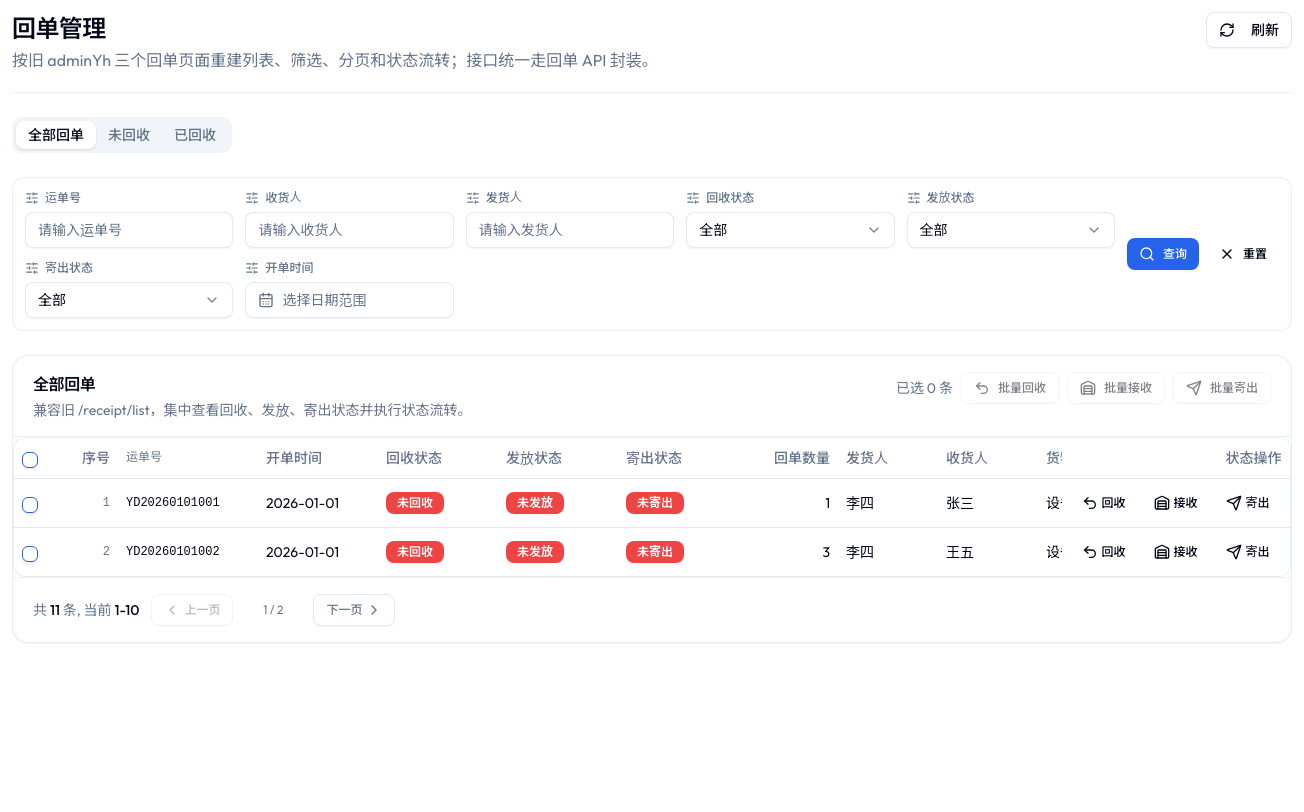
ReceiptsList › resets filters, pagination, and selected rows together
Expected: the text "YD20260101001" is shown, [118,478,258,527]
Step 1. Type "YD2026" into the field named "回单运单号" → point(129, 230), box [25,212,233,248]
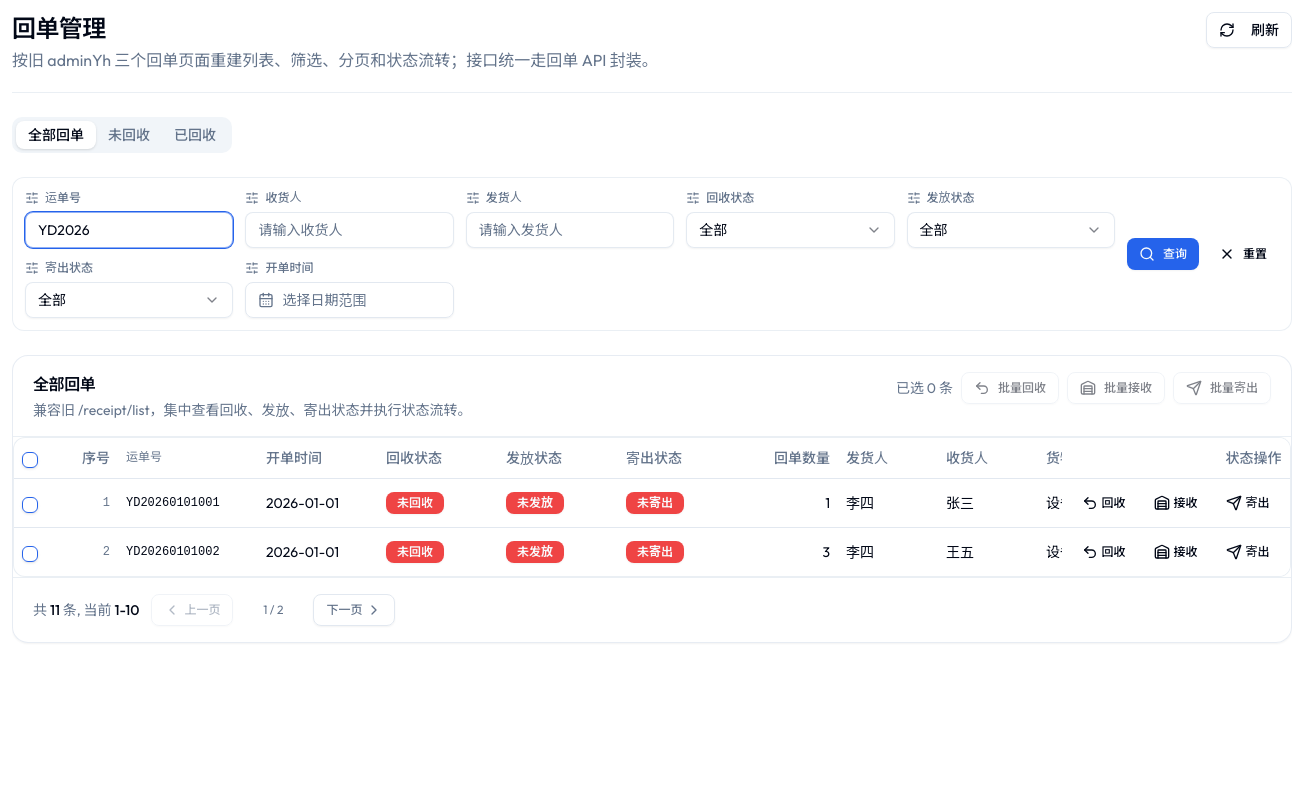
Step 2. Click the button "查询" → point(1163, 254), box [1127,238,1199,270]
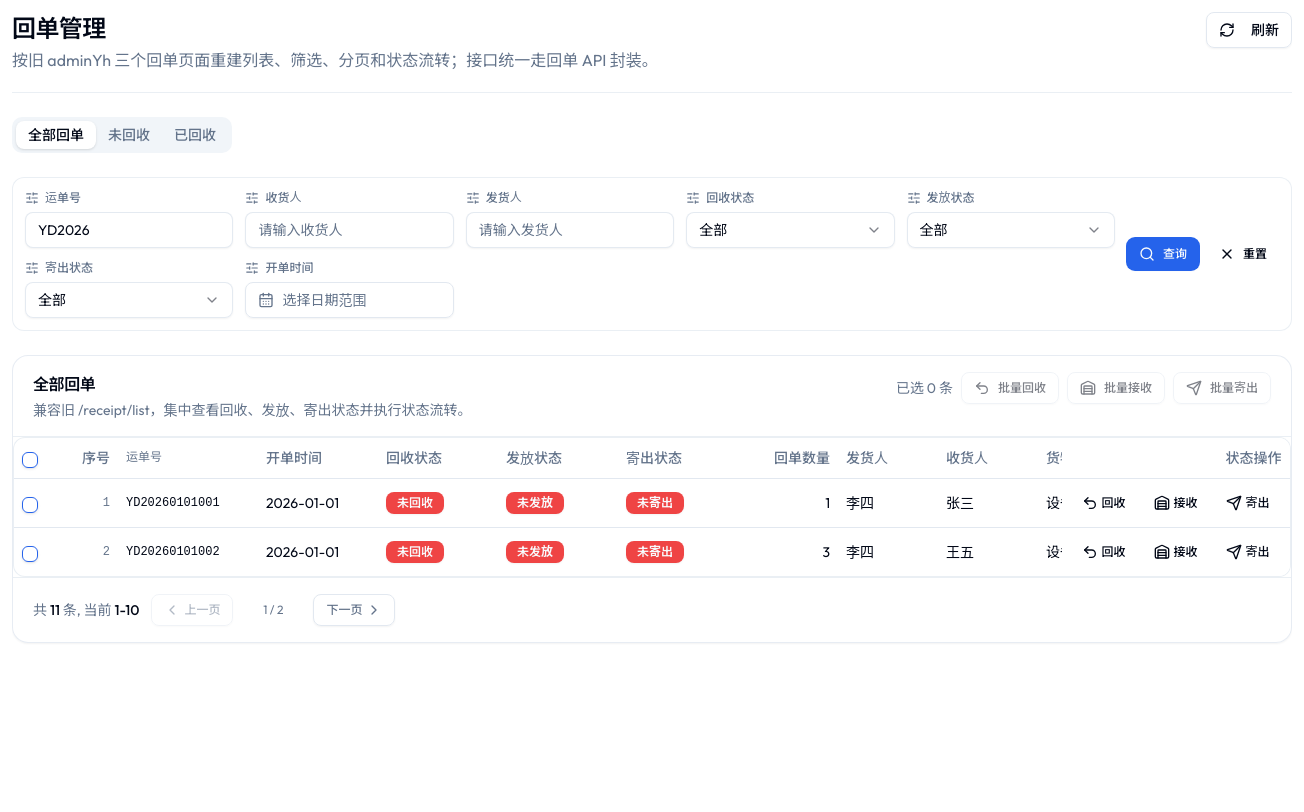
Step 3. Click the button "下一页" → point(354, 610), box [313,594,395,626]
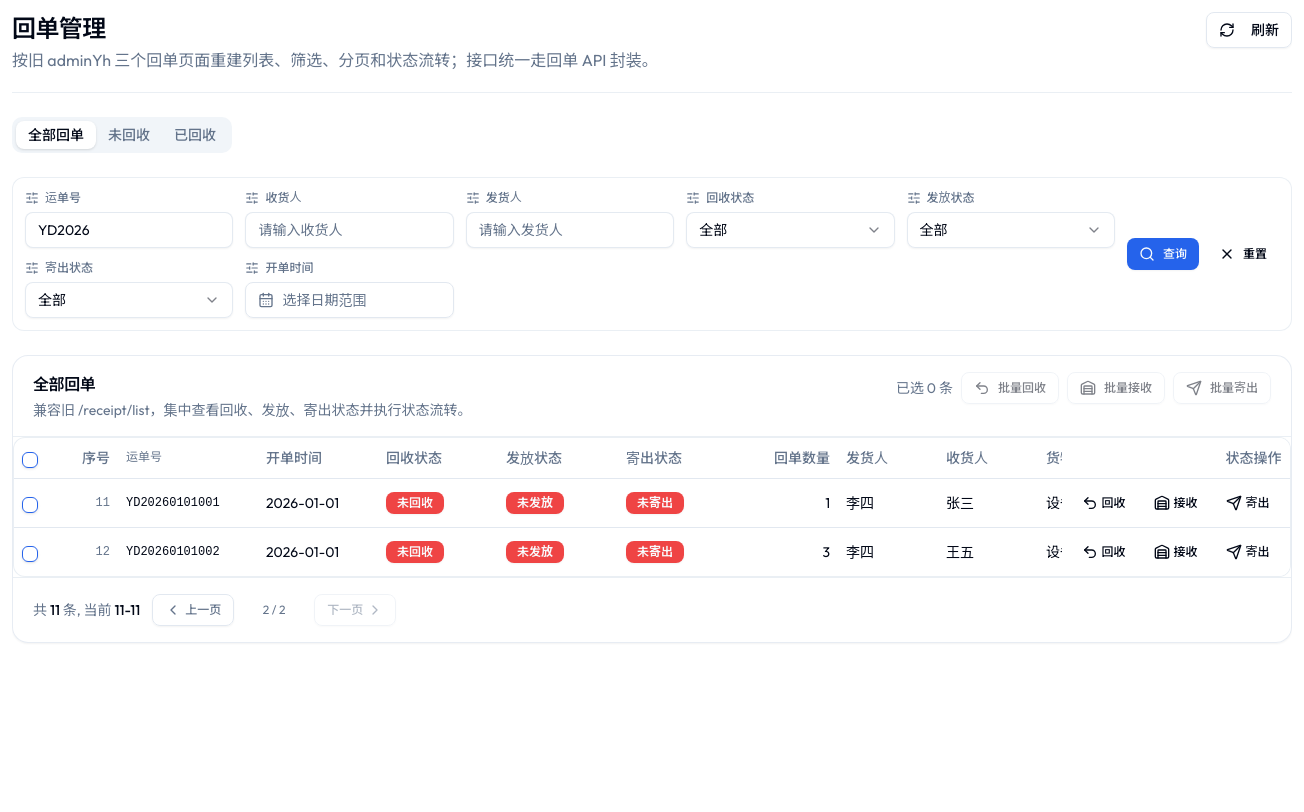
Step 4. Click the checkbox named "选择回单 YD20260101001" → point(30, 504), box [22,496,38,512]
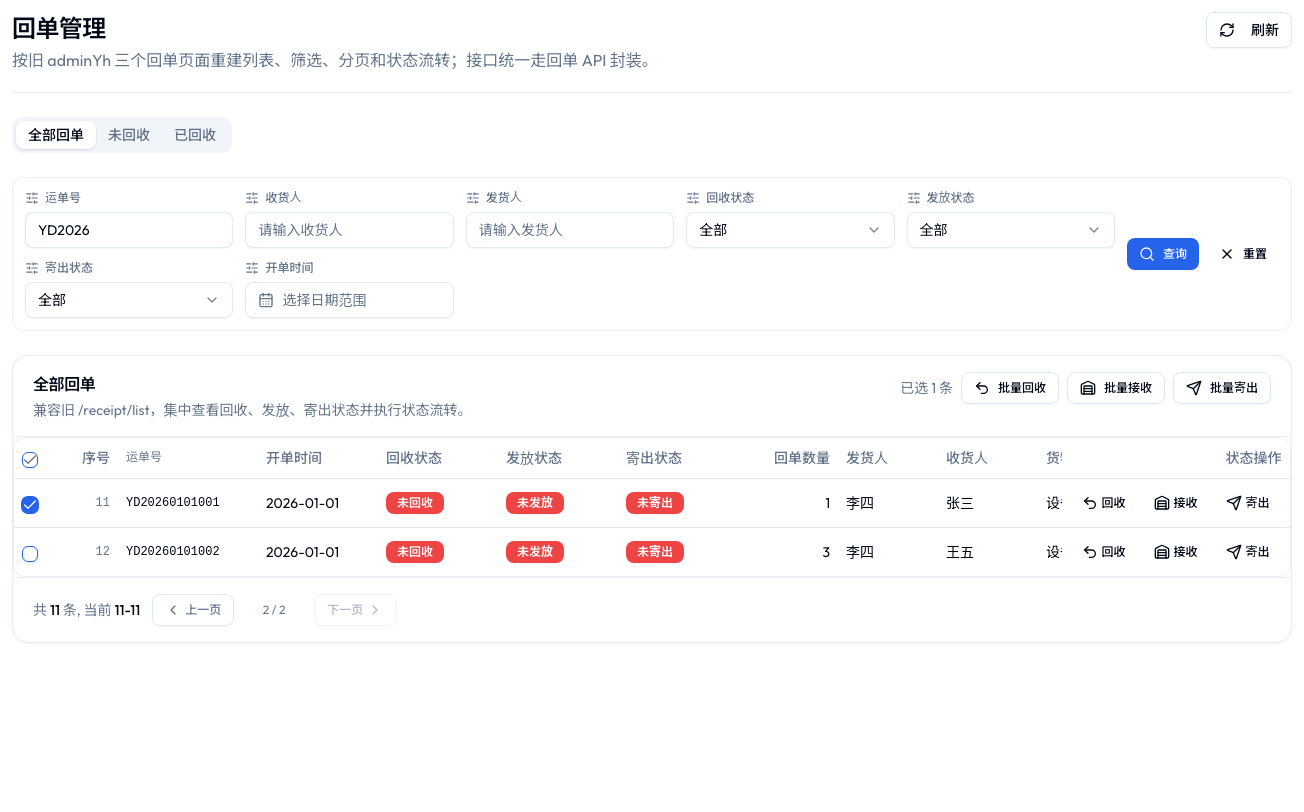
Expected: the text "已选 1 条" is shown, [900,378,953,398]
Step 5. Click the button "重置" → point(1243, 254), box [1207,238,1279,270]
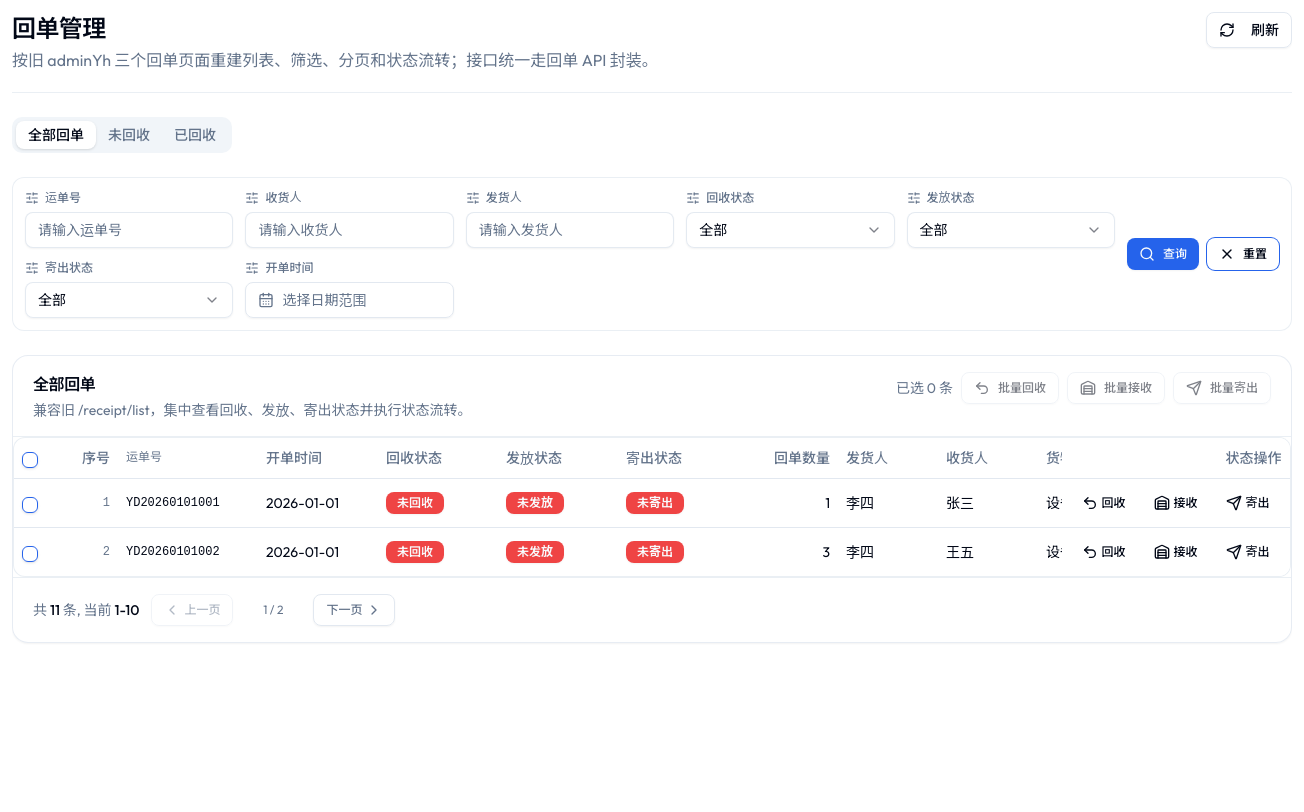
Expected: the text "已选 0 条" is shown, [896,378,953,398]
